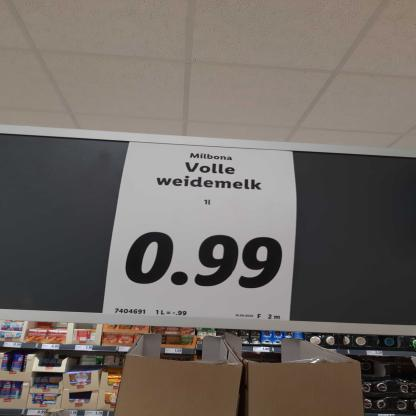prtg: (103, 143, 299, 322)
